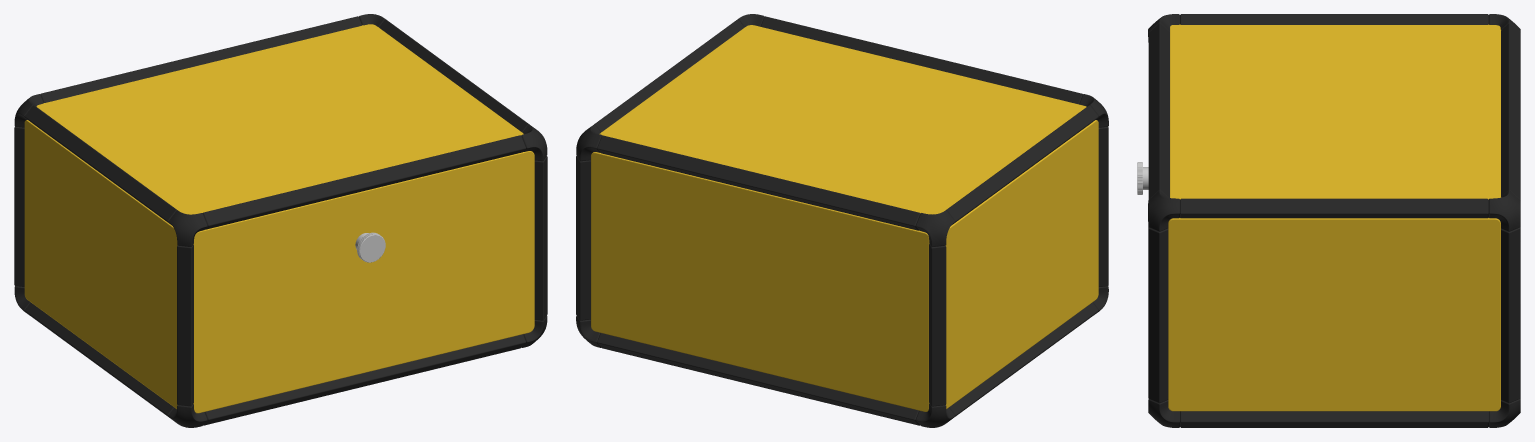
The picture shows the model from 3 angles, left to right: view 1: azimuth 30°, elevation 25°; view 2: azimuth 150°, elevation 25°; view 3: azimuth 270°, elevation 25°; orthographic projection. The views are drawn at different scales.
Parts seen in each view (by area): view 1: 479x374x229; view 2: 479x374x229; view 3: 479x374x229.
Boxes of the visible parts, box(x1,y1,x2,y2) form: 479x374x229: box(14, 14, 547, 427); 479x374x229: box(576, 14, 1108, 427); 479x374x229: box(1137, 14, 1520, 427).
Bounding box in the file's own units: 0.5567 × 0.3066 × 0.4646.
